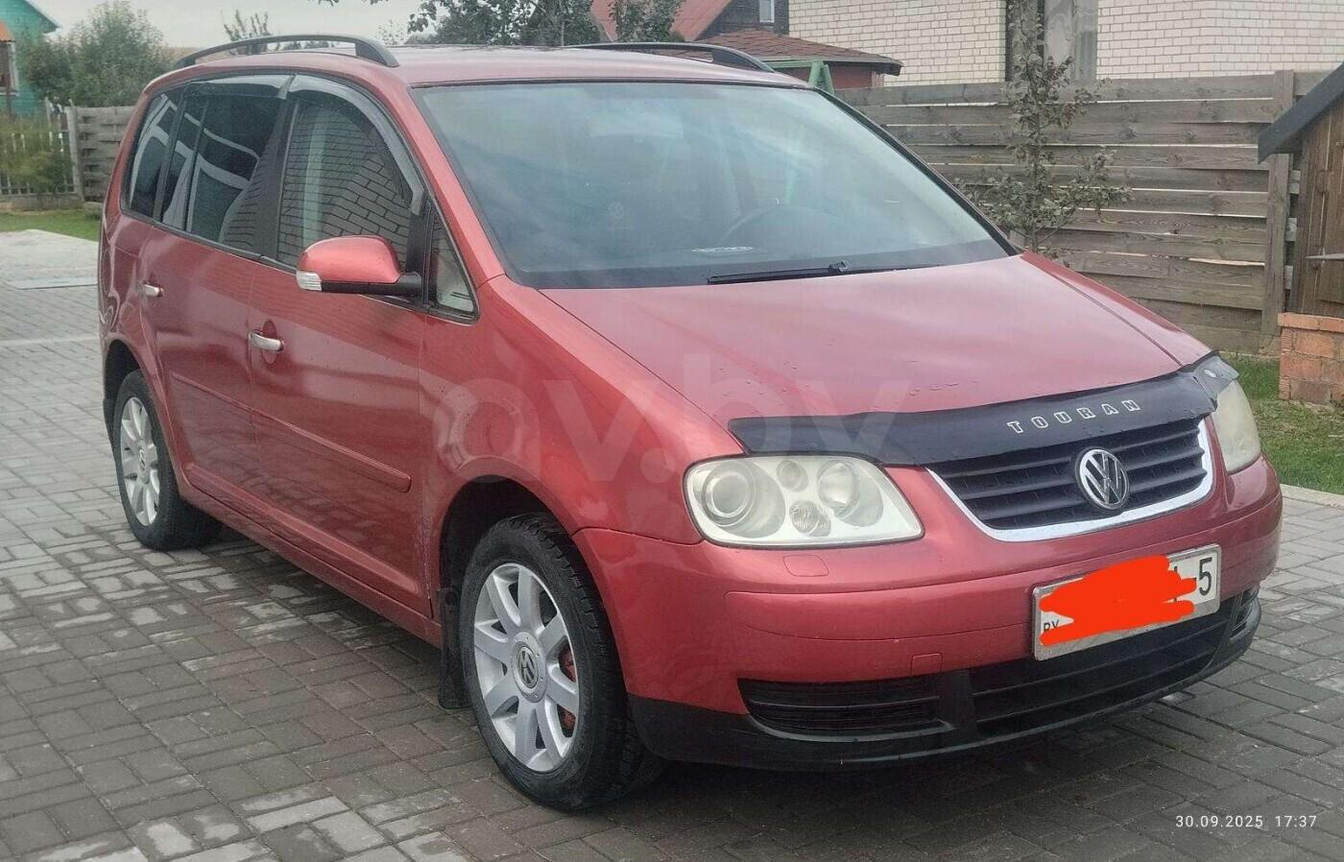Touran_2003-2006: (96, 38, 1290, 810)
